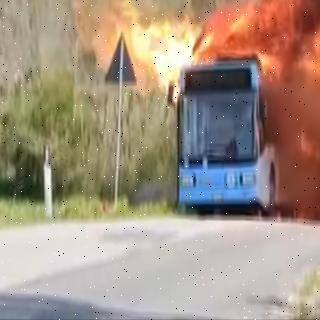smoke: (287, 132, 320, 233)
